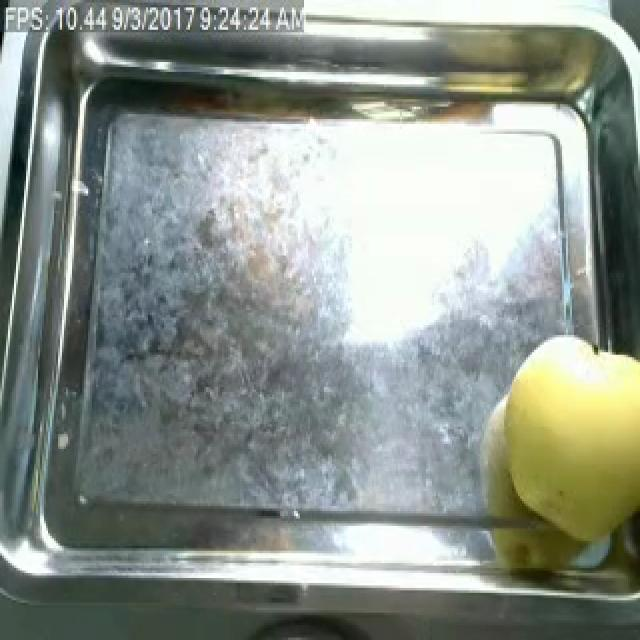Fruit: (482, 325, 640, 553)
